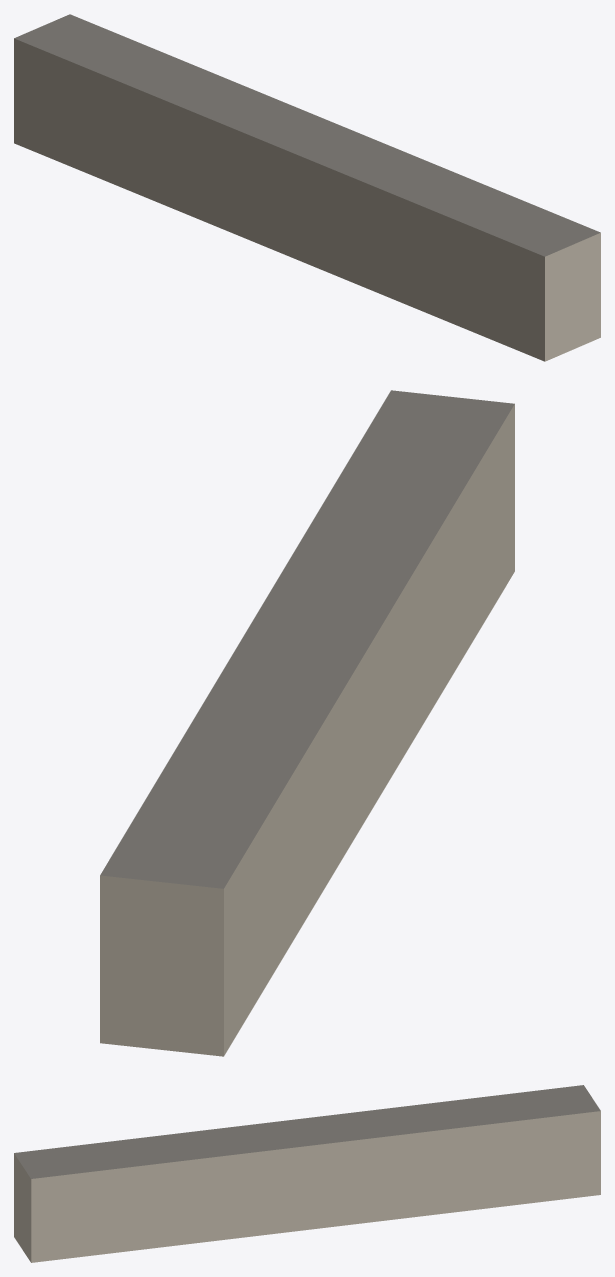
3 views of the same model, one above another, from view 1: azimuth 30°, elevation 25°; view 2: azimuth 150°, elevation 25°; view 3: azimuth 270°, elevation 25° (orthographic). The views are drawn at different scales.
Parts seen in each view (by area): view 1: HP-w859447881; view 2: HP-w859447881; view 3: HP-w859447881.
Part boxes in pixels (box(x1,y1,x2,y2)): HP-w859447881: box(14, 14, 600, 361); HP-w859447881: box(100, 390, 514, 1056); HP-w859447881: box(14, 1085, 600, 1262).
Bounding box in the file's own units: 36.06 × 15 × 95.11.
